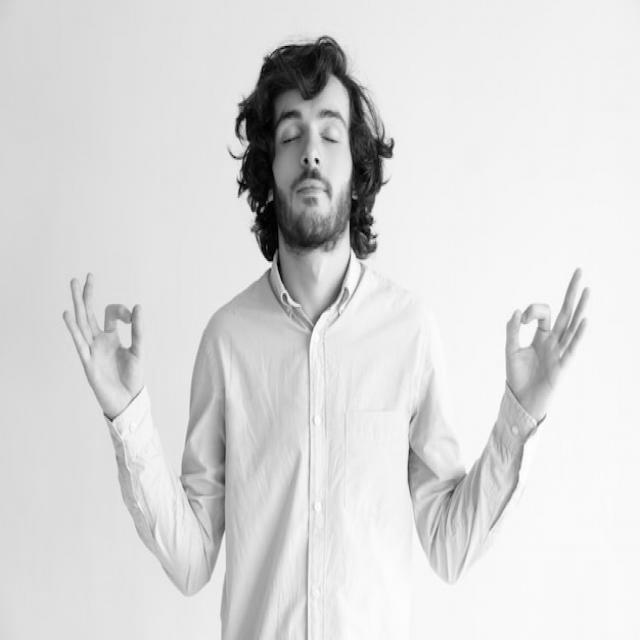real: (266, 79, 363, 246), (268, 106, 350, 150)
